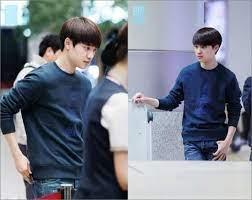sweater: (1, 64, 97, 184), (140, 51, 242, 145)
